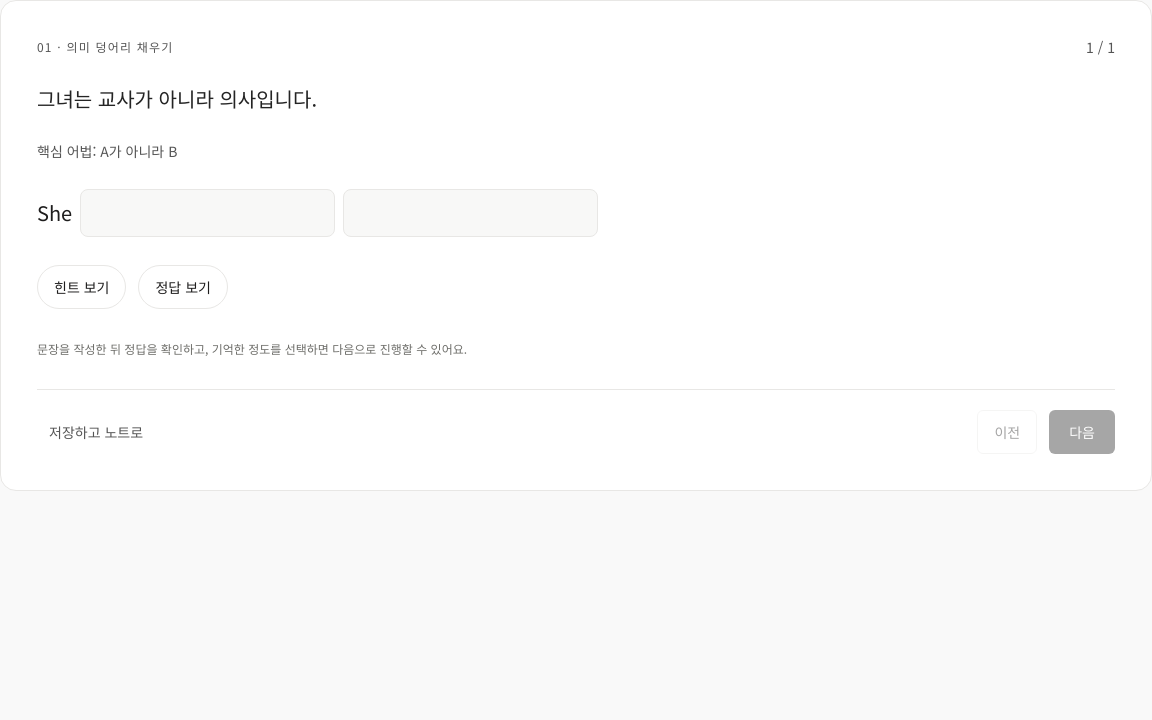
Test case: recall workflow › saves before exiting and remains on page when saving fails
Step 1. Type "is" into the 1st field named "이다" → (208, 213), box [80,189,335,237]
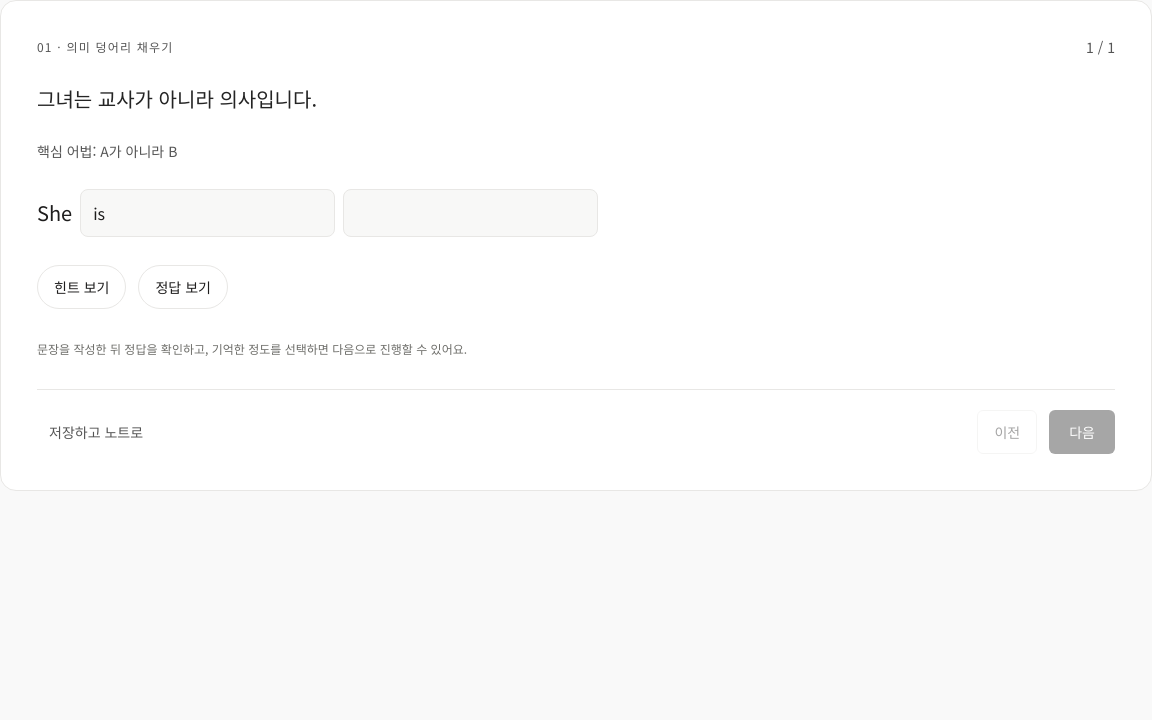
Step 2. Click the button "저장하고 노트로" → (96, 432), box [37,410,155,454]
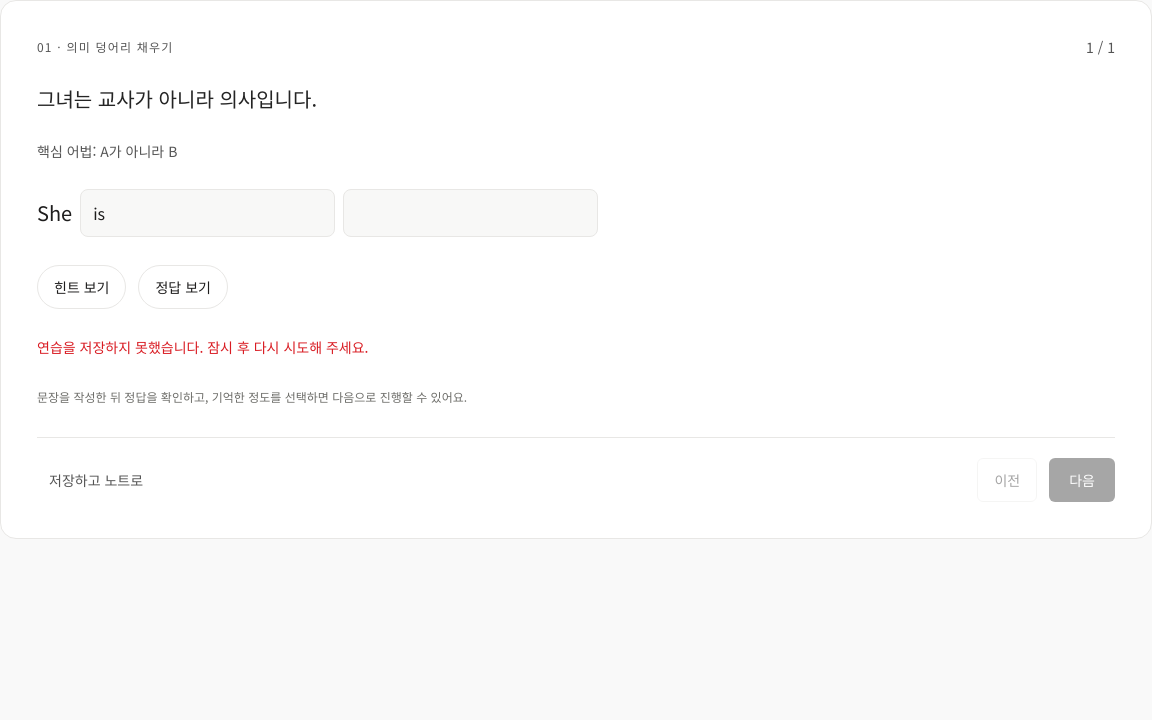
Expected: the message "연습을 저장하지 못했습니다. 잠시 후 다시 시도해 주세요." is shown, [37,337,368,357]
